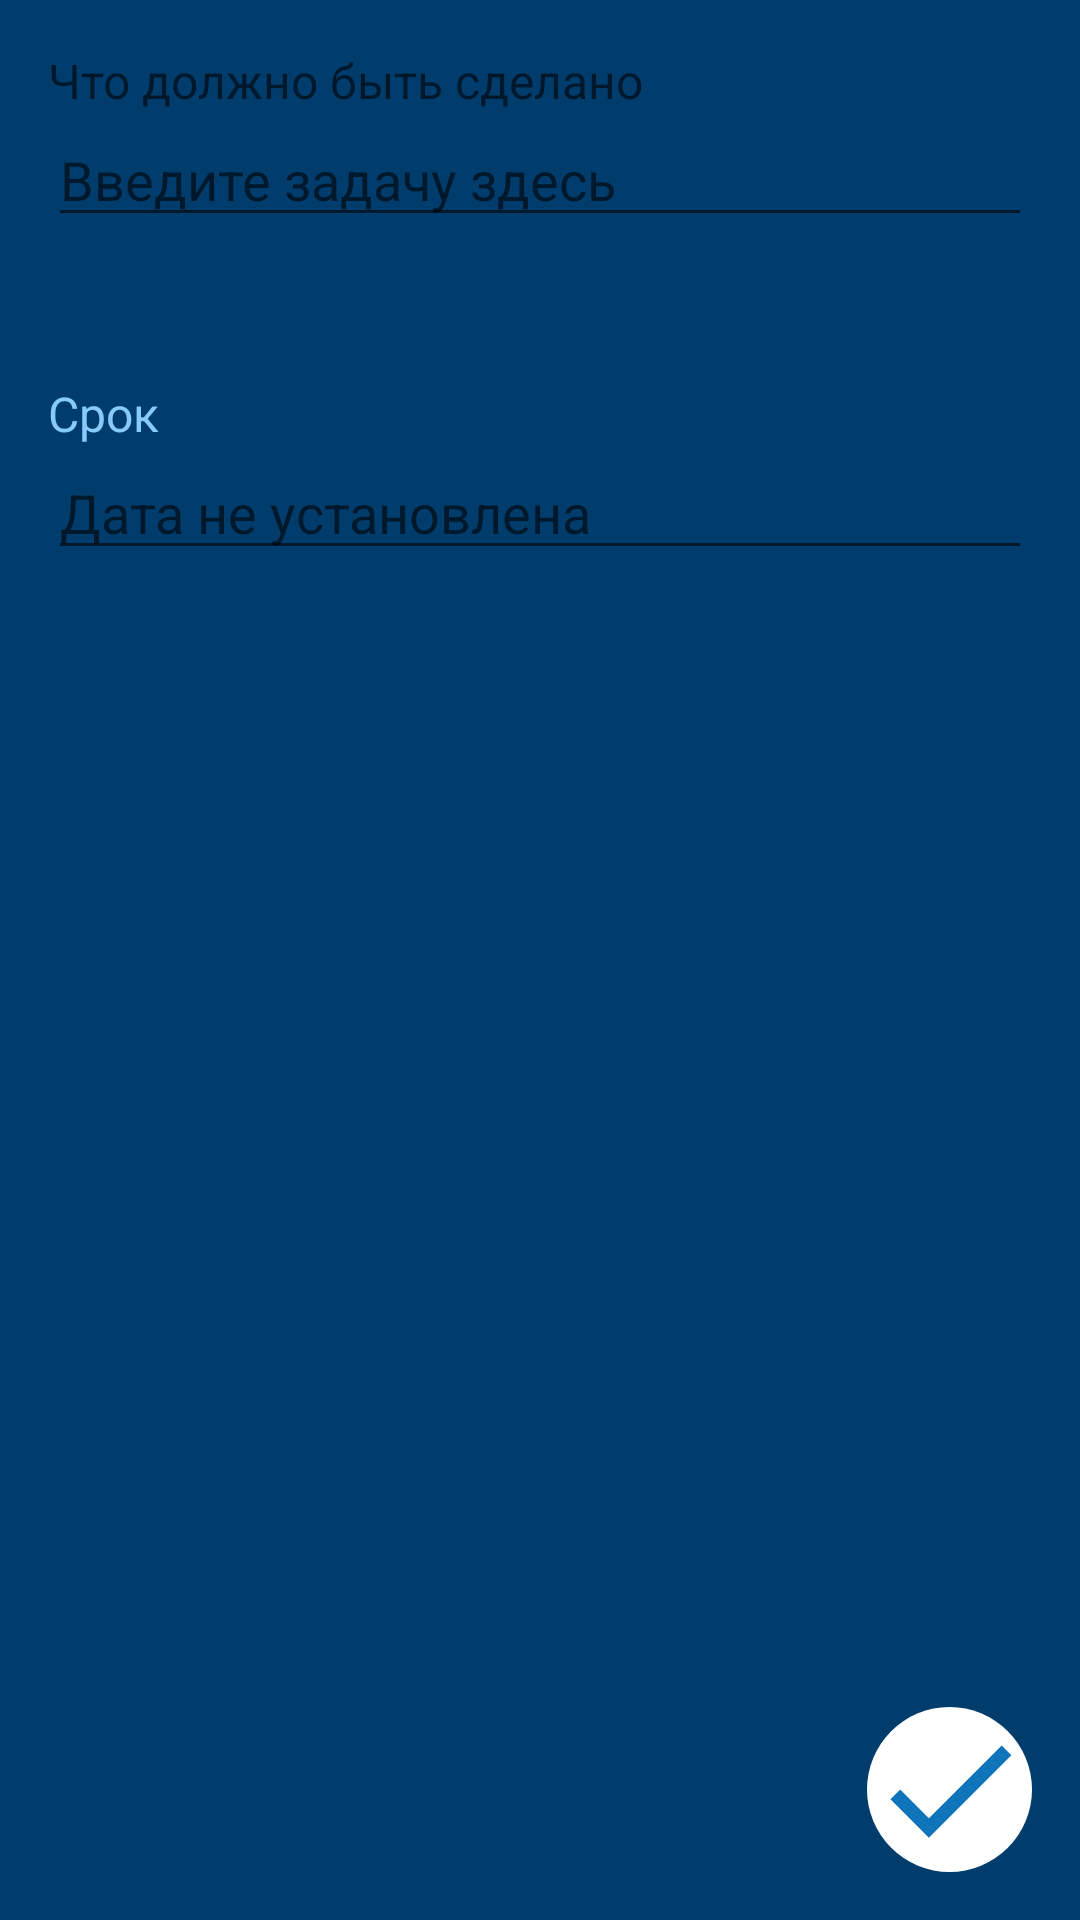

Where icons sit on this 1080 x 1920 app screen, as rect(x1, y1, x2, y2):
check: rect(867, 1707, 1032, 1872)
